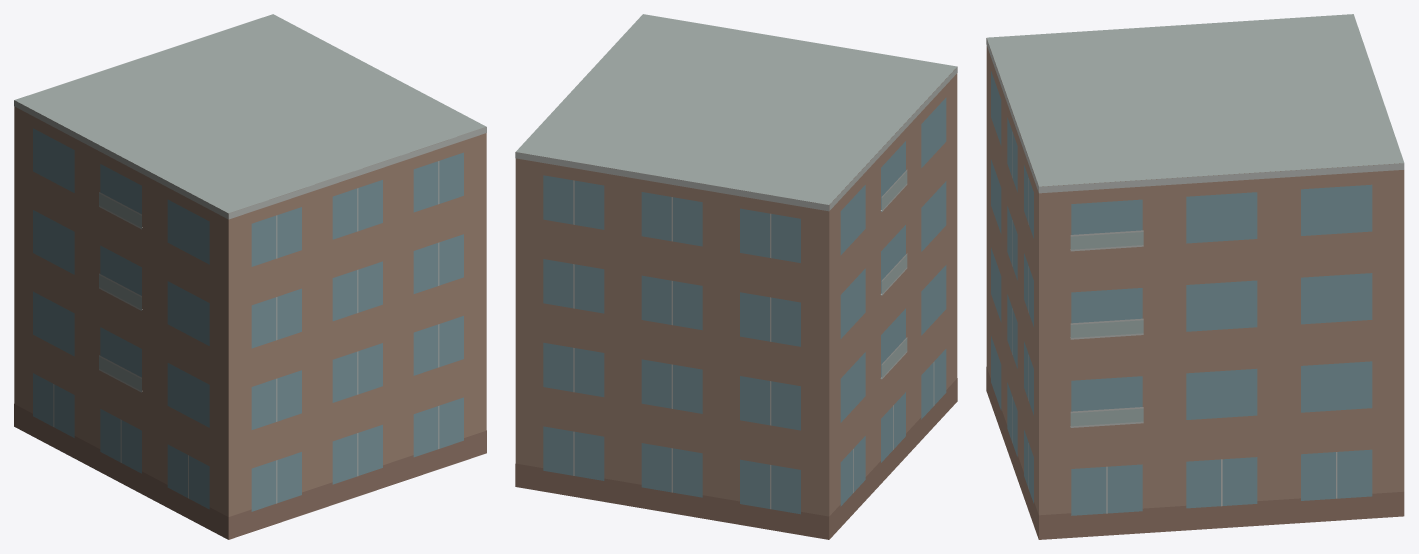
Rendered from survey-upis-32914773.glb.
3 renders of one model, left to right at view 1: azimuth 30°, elevation 25°; view 2: azimuth 150°, elevation 25°; view 3: azimuth 270°, elevation 25°, orthographic. The views are drawn at different scales.
Visible parts, largest first — view 1: survey-upis-32914773.tmp; view 2: survey-upis-32914773.tmp; view 3: survey-upis-32914773.tmp.
Boxes of the visible parts, bbox=[...] form: survey-upis-32914773.tmp: bbox=[14, 14, 486, 539]; survey-upis-32914773.tmp: bbox=[515, 14, 957, 539]; survey-upis-32914773.tmp: bbox=[986, 14, 1404, 539].
Size of the model in its own units: 13.53 by 12.9 by 13.84.
